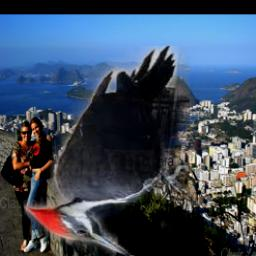Woodpecker: (24, 47, 190, 256)
